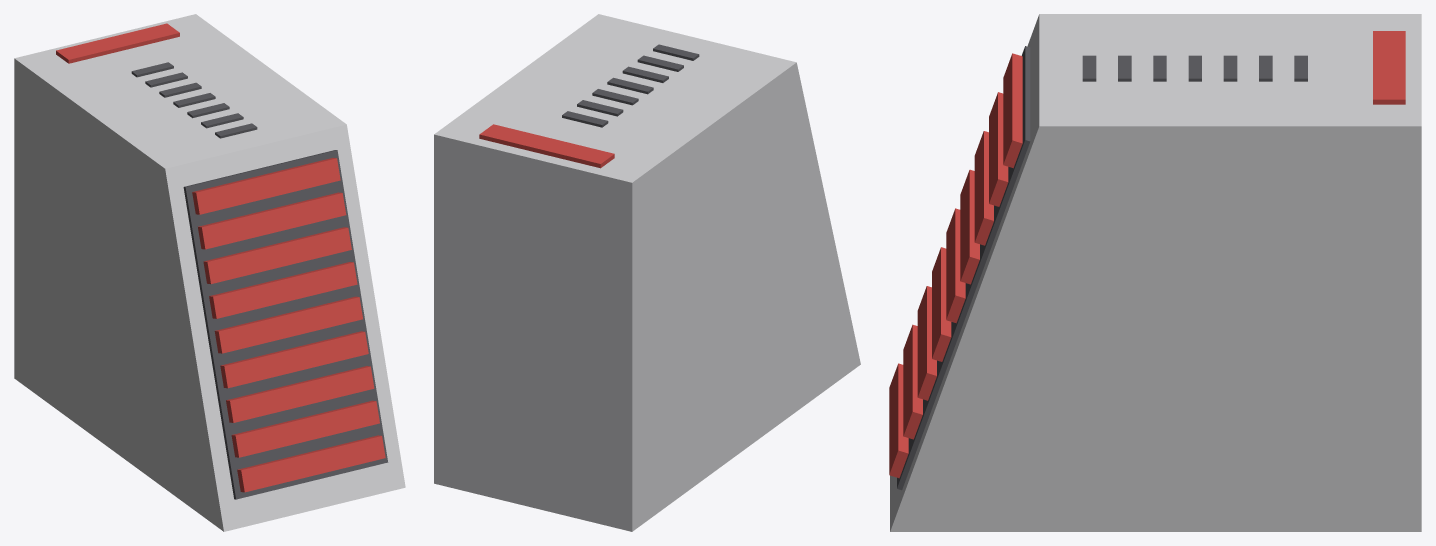
Rendered from vge_e_small_thruster.obj.
The picture shows the model from 3 angles, left to right: view 1: azimuth 30°, elevation 25°; view 2: azimuth 150°, elevation 25°; view 3: azimuth 270°, elevation 25°; orthographic projection. The views are drawn at different scales.
Visible parts, largest first — view 1: vge_small_astrofuel_thruster_0, vge_small_astrofuel_thruster_1, vge_small_astrofuel_thruster_2, vge_small_astrofuel_thruster_3, vge_small_astrofuel_thruster_6, vge_small_astrofuel_thruster_9, vge_small_astrofuel_thruster_5, vge_small_astrofuel_thruster_8, vge_small_astrofuel_thruster_10, vge_small_astrofuel_thruster_4, vge_small_astrofuel_thruster_7, vge_small_astrofuel_thruster_18; view 2: vge_small_astrofuel_thruster_0, vge_small_astrofuel_thruster_18; view 3: vge_small_astrofuel_thruster_0, vge_small_astrofuel_thruster_1, vge_small_astrofuel_thruster_18, vge_small_astrofuel_thruster_10, vge_small_astrofuel_thruster_2, vge_small_astrofuel_thruster_6, vge_small_astrofuel_thruster_3, vge_small_astrofuel_thruster_4, vge_small_astrofuel_thruster_7, vge_small_astrofuel_thruster_5, vge_small_astrofuel_thruster_8, vge_small_astrofuel_thruster_9.
Part boxes in pixels (bbox=[...]): vge_small_astrofuel_thruster_0: bbox=[14, 14, 405, 531]; vge_small_astrofuel_thruster_1: bbox=[183, 150, 388, 499]; vge_small_astrofuel_thruster_2: bbox=[237, 435, 385, 492]; vge_small_astrofuel_thruster_3: bbox=[231, 400, 379, 457]; vge_small_astrofuel_thruster_6: bbox=[214, 296, 362, 353]; vge_small_astrofuel_thruster_9: bbox=[198, 192, 346, 249]; vge_small_astrofuel_thruster_5: bbox=[220, 331, 368, 388]; vge_small_astrofuel_thruster_8: bbox=[203, 227, 351, 284]; vge_small_astrofuel_thruster_10: bbox=[192, 157, 340, 214]; vge_small_astrofuel_thruster_4: bbox=[226, 366, 374, 422]; vge_small_astrofuel_thruster_7: bbox=[209, 262, 357, 318]; vge_small_astrofuel_thruster_18: bbox=[56, 23, 179, 63]; vge_small_astrofuel_thruster_0: bbox=[434, 14, 860, 531]; vge_small_astrofuel_thruster_18: bbox=[479, 124, 614, 168]; vge_small_astrofuel_thruster_0: bbox=[890, 14, 1421, 531]; vge_small_astrofuel_thruster_1: bbox=[897, 46, 1030, 490]; vge_small_astrofuel_thruster_18: bbox=[1373, 31, 1405, 104]; vge_small_astrofuel_thruster_10: bbox=[1003, 53, 1022, 168]; vge_small_astrofuel_thruster_2: bbox=[889, 363, 908, 478]; vge_small_astrofuel_thruster_6: bbox=[946, 208, 965, 323]; vge_small_astrofuel_thruster_3: bbox=[903, 324, 922, 439]; vge_small_astrofuel_thruster_4: bbox=[917, 286, 936, 400]; vge_small_astrofuel_thruster_7: bbox=[960, 169, 979, 284]; vge_small_astrofuel_thruster_5: bbox=[932, 247, 951, 361]; vge_small_astrofuel_thruster_8: bbox=[974, 131, 993, 245]; vge_small_astrofuel_thruster_9: bbox=[989, 92, 1008, 206].
Bounding box in the file's own units: 0.98 × 1.67 × 1.96.
